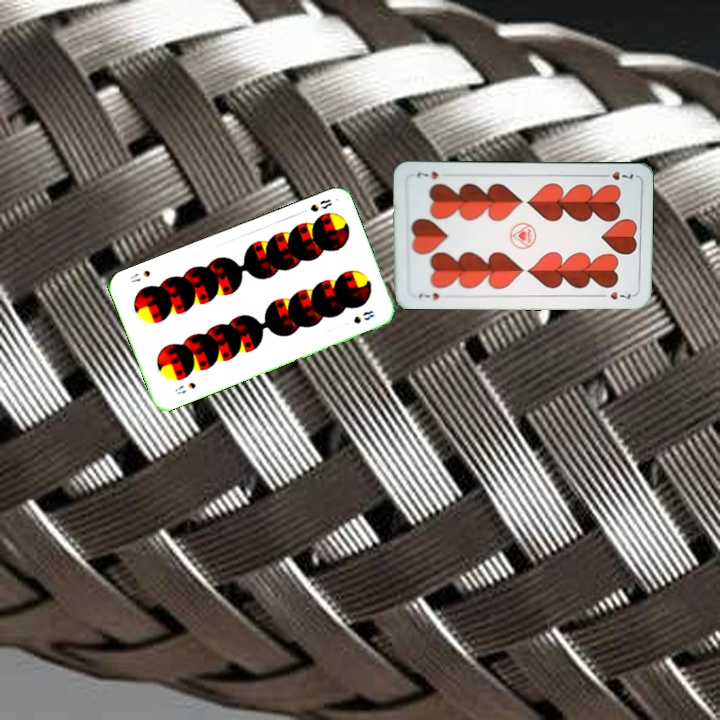H7: (596, 167, 636, 182), (414, 289, 442, 303)
S8: (296, 195, 335, 216), (171, 378, 199, 397)
